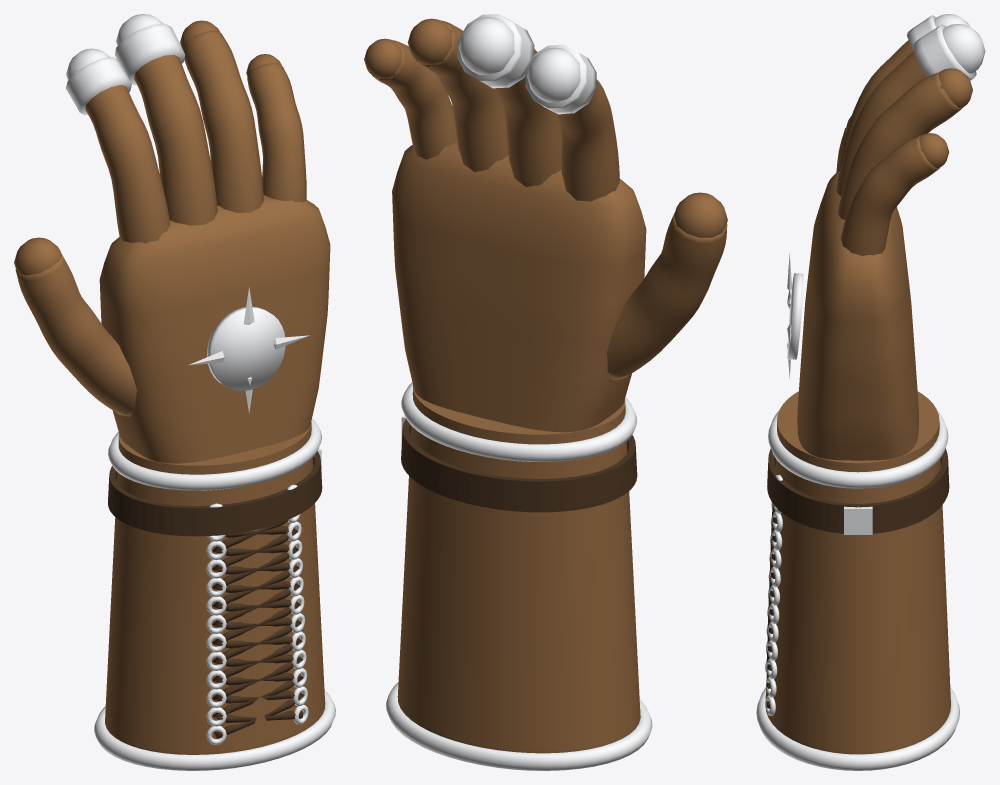
The model's file is gloves_crit_uncommon.glb.
3 views of the same model, side by side, from view 1: azimuth 30°, elevation 25°; view 2: azimuth 150°, elevation 25°; view 3: azimuth 270°, elevation 25° (orthographic). The views are drawn at different scales.
Parts seen in each view (by area): view 1: gloves_crit_uncommon; view 2: gloves_crit_uncommon; view 3: gloves_crit_uncommon.
Part boxes in pixels (left/top/right/bottom): gloves_crit_uncommon: left=14, top=14, right=335, bottom=770; gloves_crit_uncommon: left=364, top=14, right=727, bottom=770; gloves_crit_uncommon: left=756, top=14, right=985, bottom=770.
Bounding box in the file's own units: 1.38 × 2.97 × 0.903.
